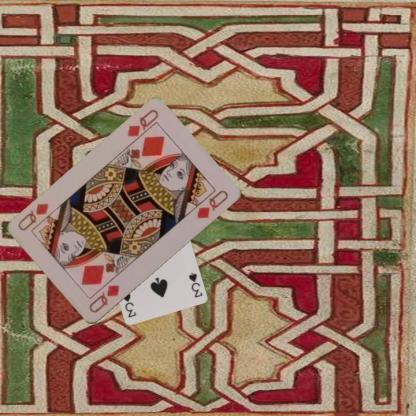3s: (186, 270, 203, 299)
Qd: (125, 107, 160, 146), (86, 281, 121, 315)
